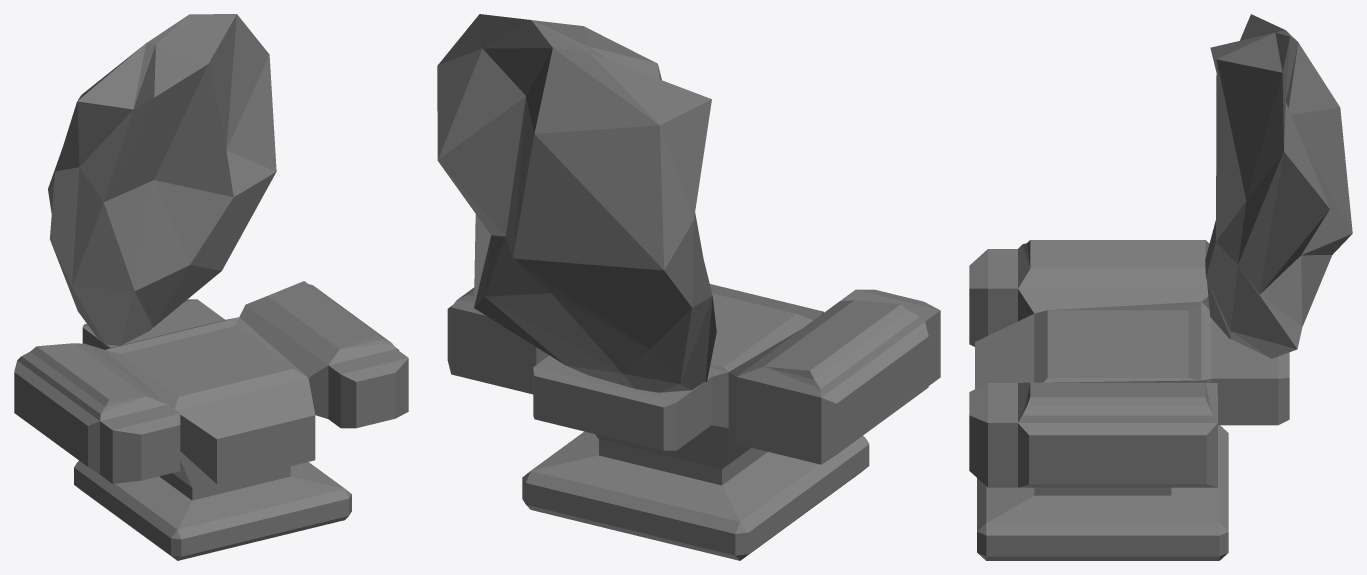
Rendered from StoneThrone.fbx.
The picture shows the model from 3 angles, left to right: view 1: azimuth 30°, elevation 25°; view 2: azimuth 150°, elevation 25°; view 3: azimuth 270°, elevation 25°; orthographic projection. The views are drawn at different scales.
Parts seen in each view (by area): view 1: StoneThrone; view 2: StoneThrone; view 3: StoneThrone.
Part boxes in pixels (x1,y1,x2,y2): StoneThrone: (14, 14, 408, 560); StoneThrone: (437, 14, 940, 560); StoneThrone: (969, 14, 1352, 560).
Bounding box in the file's own units: 197 × 254 × 174.
1 material, 1 textured.
